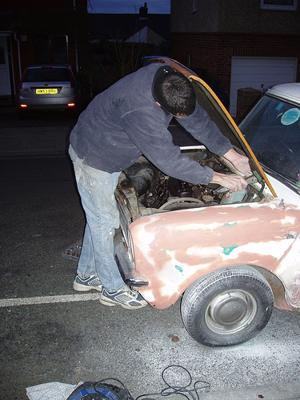person: (69, 59, 254, 310)
